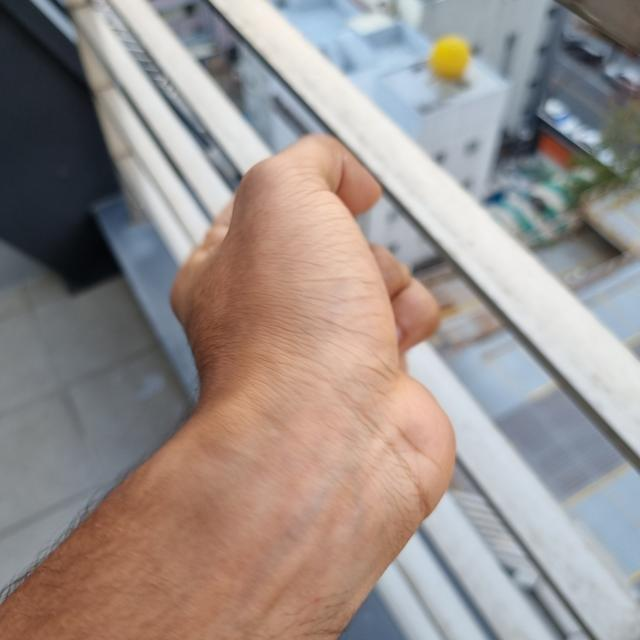Rock: (170, 134, 443, 472)
